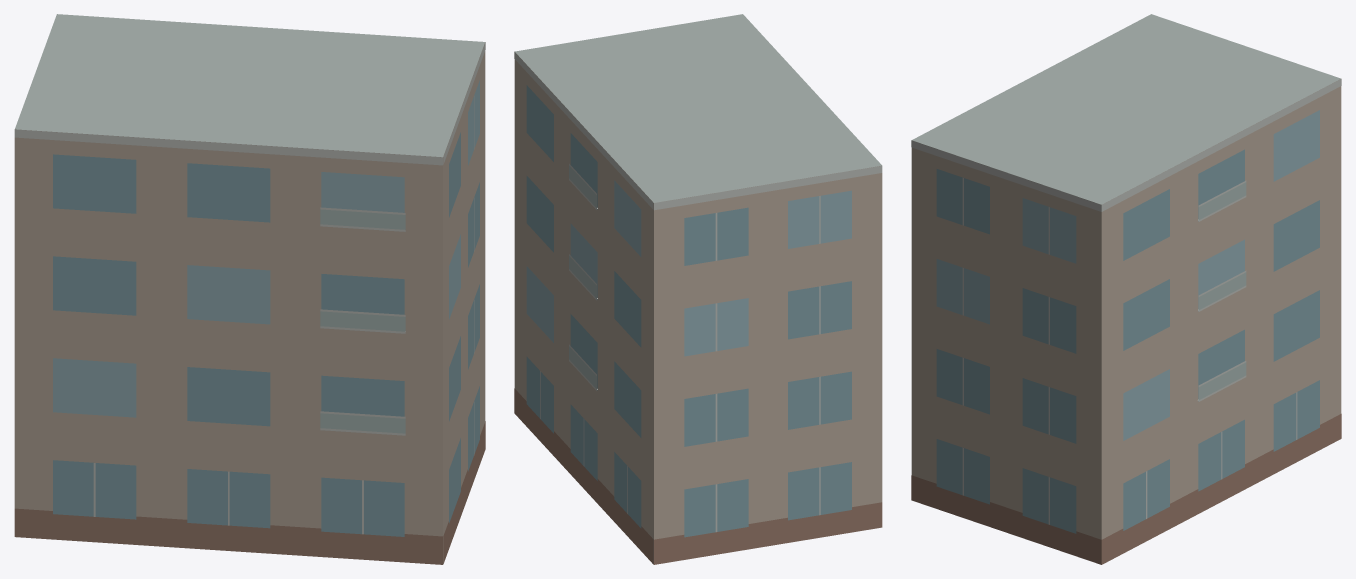
The model's file is survey-upis-32657259.glb.
3 views of the same model, side by side, from view 1: azimuth 30°, elevation 25°; view 2: azimuth 150°, elevation 25°; view 3: azimuth 270°, elevation 25° (orthographic). The views are drawn at different scales.
Visible parts, largest first — view 1: survey-upis-32657259.tmp; view 2: survey-upis-32657259.tmp; view 3: survey-upis-32657259.tmp.
Boxes of the visible parts, <box> form: survey-upis-32657259.tmp: <box>14,14,485,564</box>; survey-upis-32657259.tmp: <box>514,14,882,564</box>; survey-upis-32657259.tmp: <box>911,14,1341,564</box>.
Size of the model in its own units: 13.75 by 12.1 by 13.1.
